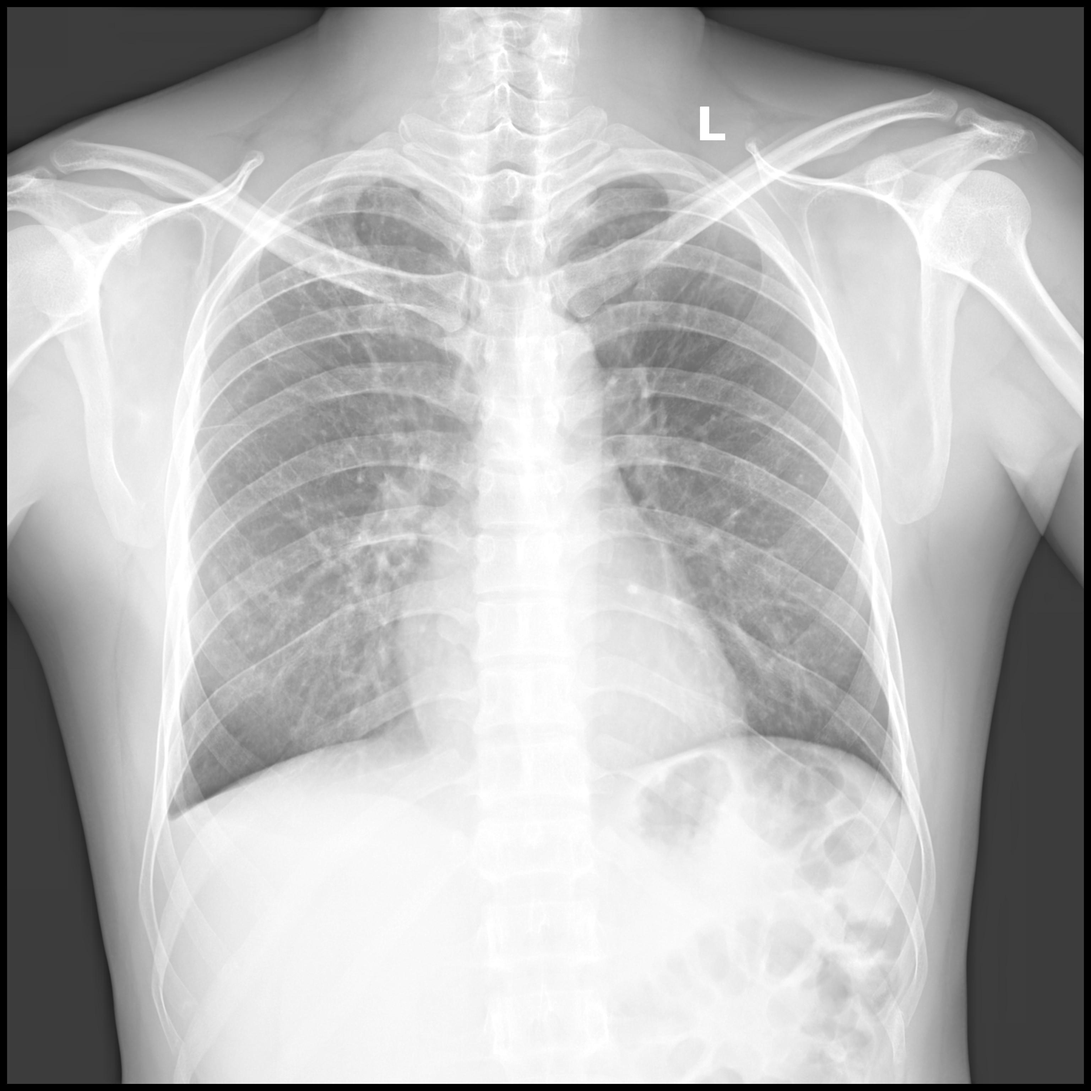Pleural thickening: (297, 175, 400, 224), (595, 173, 719, 192), (159, 791, 190, 842)
